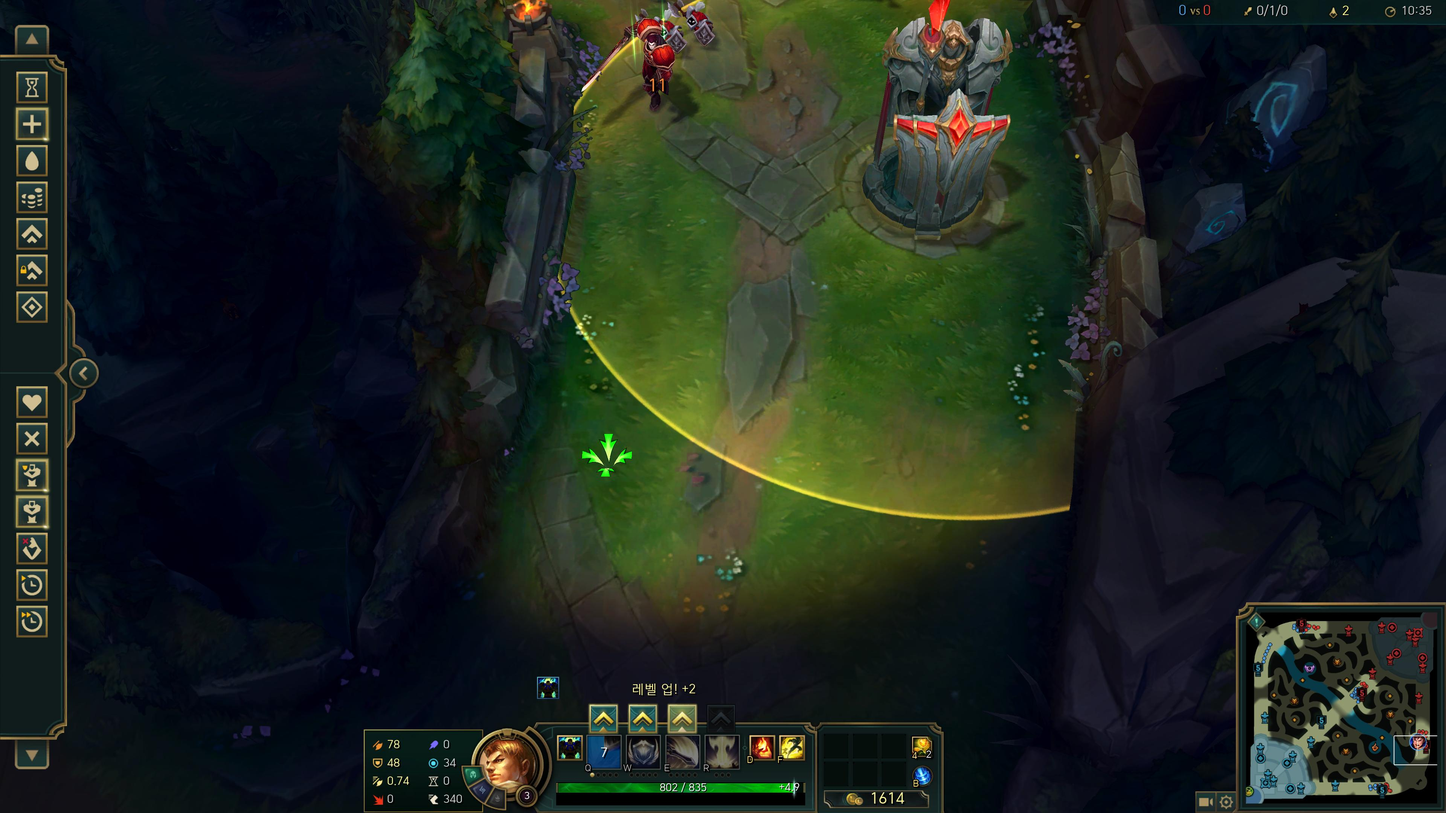enemy-melee-minion: (680, 0, 713, 41)
enemy-tower: (862, 0, 1014, 256)
